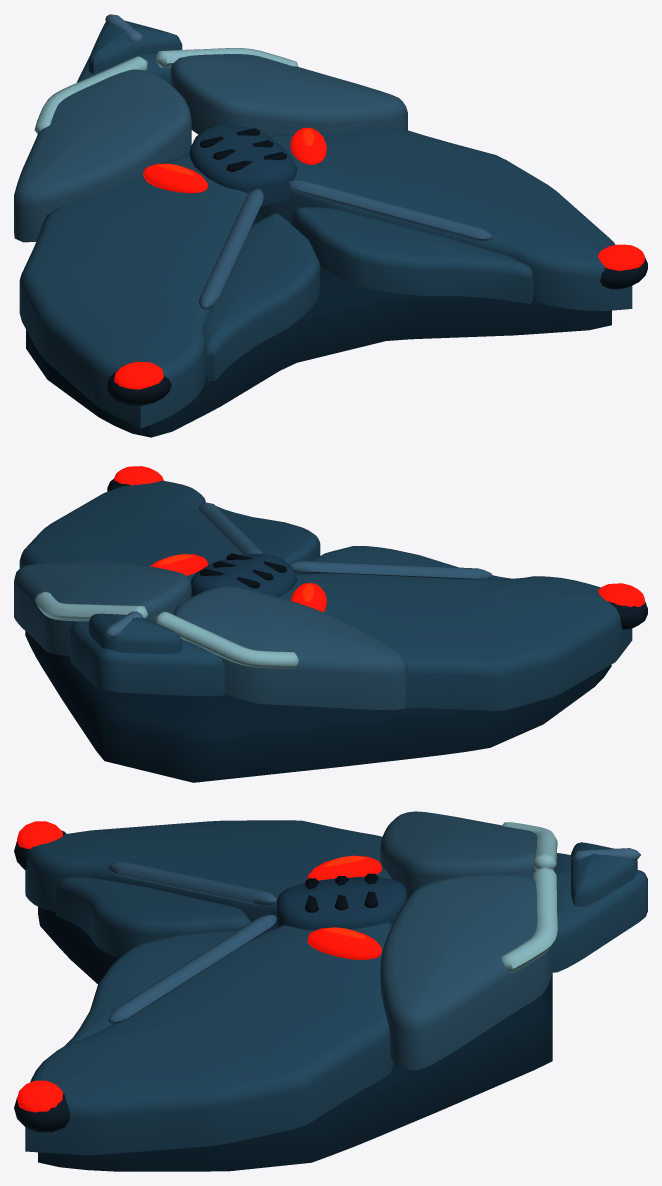
Rendered from blue_chevron.glb.
The picture shows the model from 3 angles, top to bottom: view 1: azimuth 30°, elevation 25°; view 2: azimuth 150°, elevation 25°; view 3: azimuth 270°, elevation 25°; orthographic projection. The views are drawn at different scales.
Parts seen in each view (by area): view 1: wing_l, wing_r, body, shoulder_l, shoulder_r, wing_strip_r, wing_strip_l, block, ridge_r, nose_top, ridge_l, rim_l (+8 smaller); view 2: body, wing_l, shoulder_l, wing_r, shoulder_r, nose, wing_strip_r, block, nose_top, rim_l, ridge_l, wing_strip_l (+7 smaller); view 3: wing_r, shoulder_r, body, wing_l, shoulder_l, wing_strip_l, nose, wing_strip_r, block, ridge_r, nose_top, ridge_l (+8 smaller).
Boxes of the visible parts, x1,y1,x2,y2 form: wing_l: (19, 154, 252, 428); wing_r: (258, 127, 632, 310); body: (26, 211, 611, 437); shoulder_l: (14, 69, 191, 242); shoulder_r: (170, 54, 407, 136); wing_strip_r: (292, 207, 533, 303); wing_strip_l: (204, 213, 320, 381); block: (189, 124, 297, 206); ridge_r: (287, 179, 492, 241); nose_top: (88, 20, 182, 73); ridge_l: (199, 188, 264, 309); rim_l: (34, 56, 147, 134); body: (25, 631, 611, 782); wing_l: (279, 573, 632, 710); shoulder_l: (173, 586, 407, 710); wing_r: (19, 480, 242, 581); shoulder_r: (14, 562, 191, 655); nose: (70, 621, 224, 696); wing_strip_r: (216, 506, 320, 563); block: (190, 553, 297, 597); nose_top: (88, 613, 182, 653); rim_l: (155, 611, 298, 668); ridge_l: (289, 561, 492, 579); wing_strip_l: (294, 546, 511, 578); wing_r: (25, 923, 394, 1155); shoulder_r: (380, 873, 552, 1070); body: (38, 907, 552, 1171); wing_l: (25, 820, 391, 931); shoulder_l: (380, 811, 537, 899); wing_strip_l: (56, 877, 250, 957); nose: (552, 853, 647, 972); wing_strip_r: (65, 930, 238, 1045); block: (277, 877, 406, 930); ridge_r: (108, 915, 276, 1023); nose_top: (571, 842, 637, 906); ridge_l: (108, 862, 277, 905).
Size of the model in its own units: 24.13 by 7.37 by 22.43.
